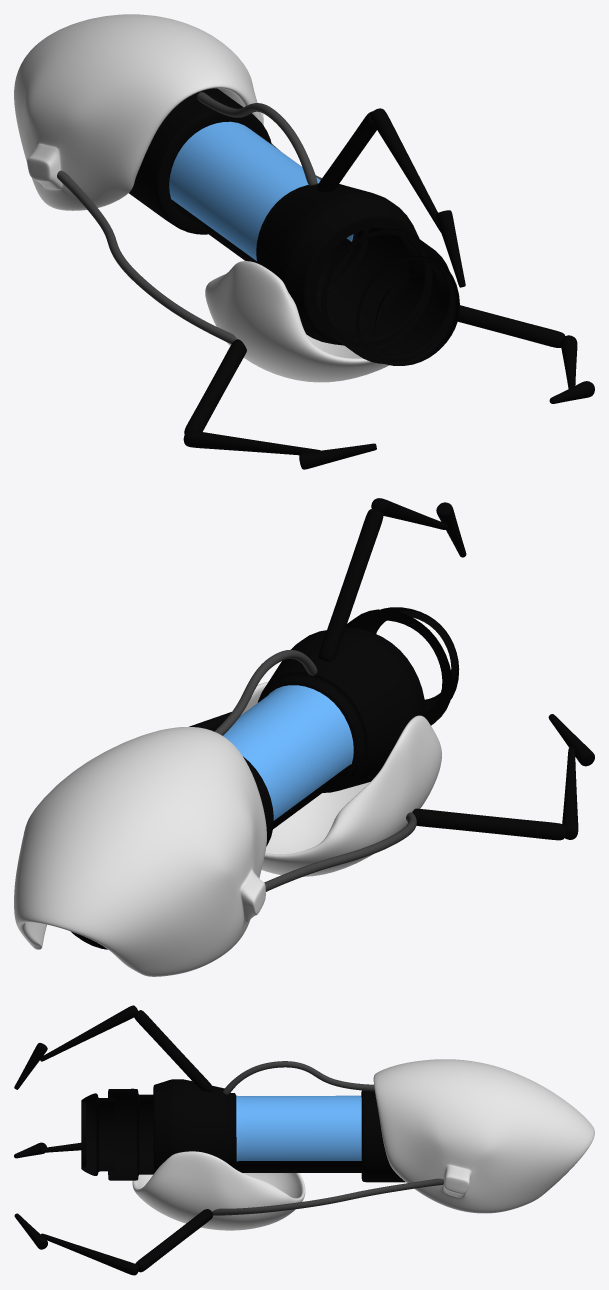
File: portalgun.fbx
The picture shows the model from 3 angles, top to bottom: view 1: azimuth 30°, elevation 25°; view 2: azimuth 150°, elevation 25°; view 3: azimuth 270°, elevation 25°; orthographic projection. The views are drawn at different scales.
Parts seen in each view (by area): view 1: Portalgun; view 2: Portalgun; view 3: Portalgun.
Part boxes in pixels (box(x1,y1,x2,y2)): Portalgun: box(14, 14, 594, 469); Portalgun: box(14, 498, 594, 976); Portalgun: box(14, 1005, 594, 1275).
Bounding box in the file's own units: 0.1902 × 0.143 × 0.3462.
